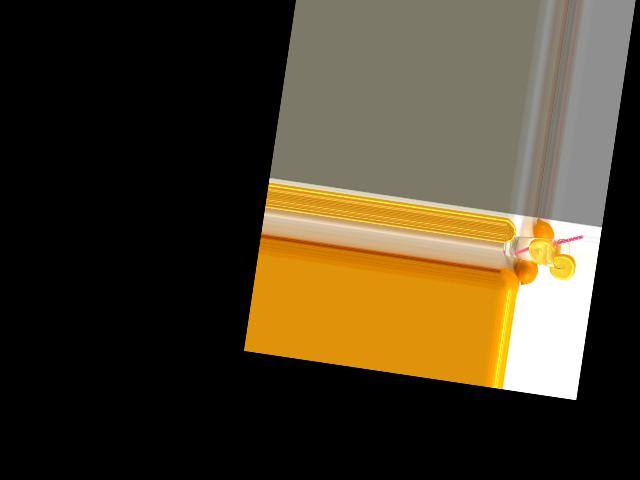lemon: (529, 218, 556, 245)
